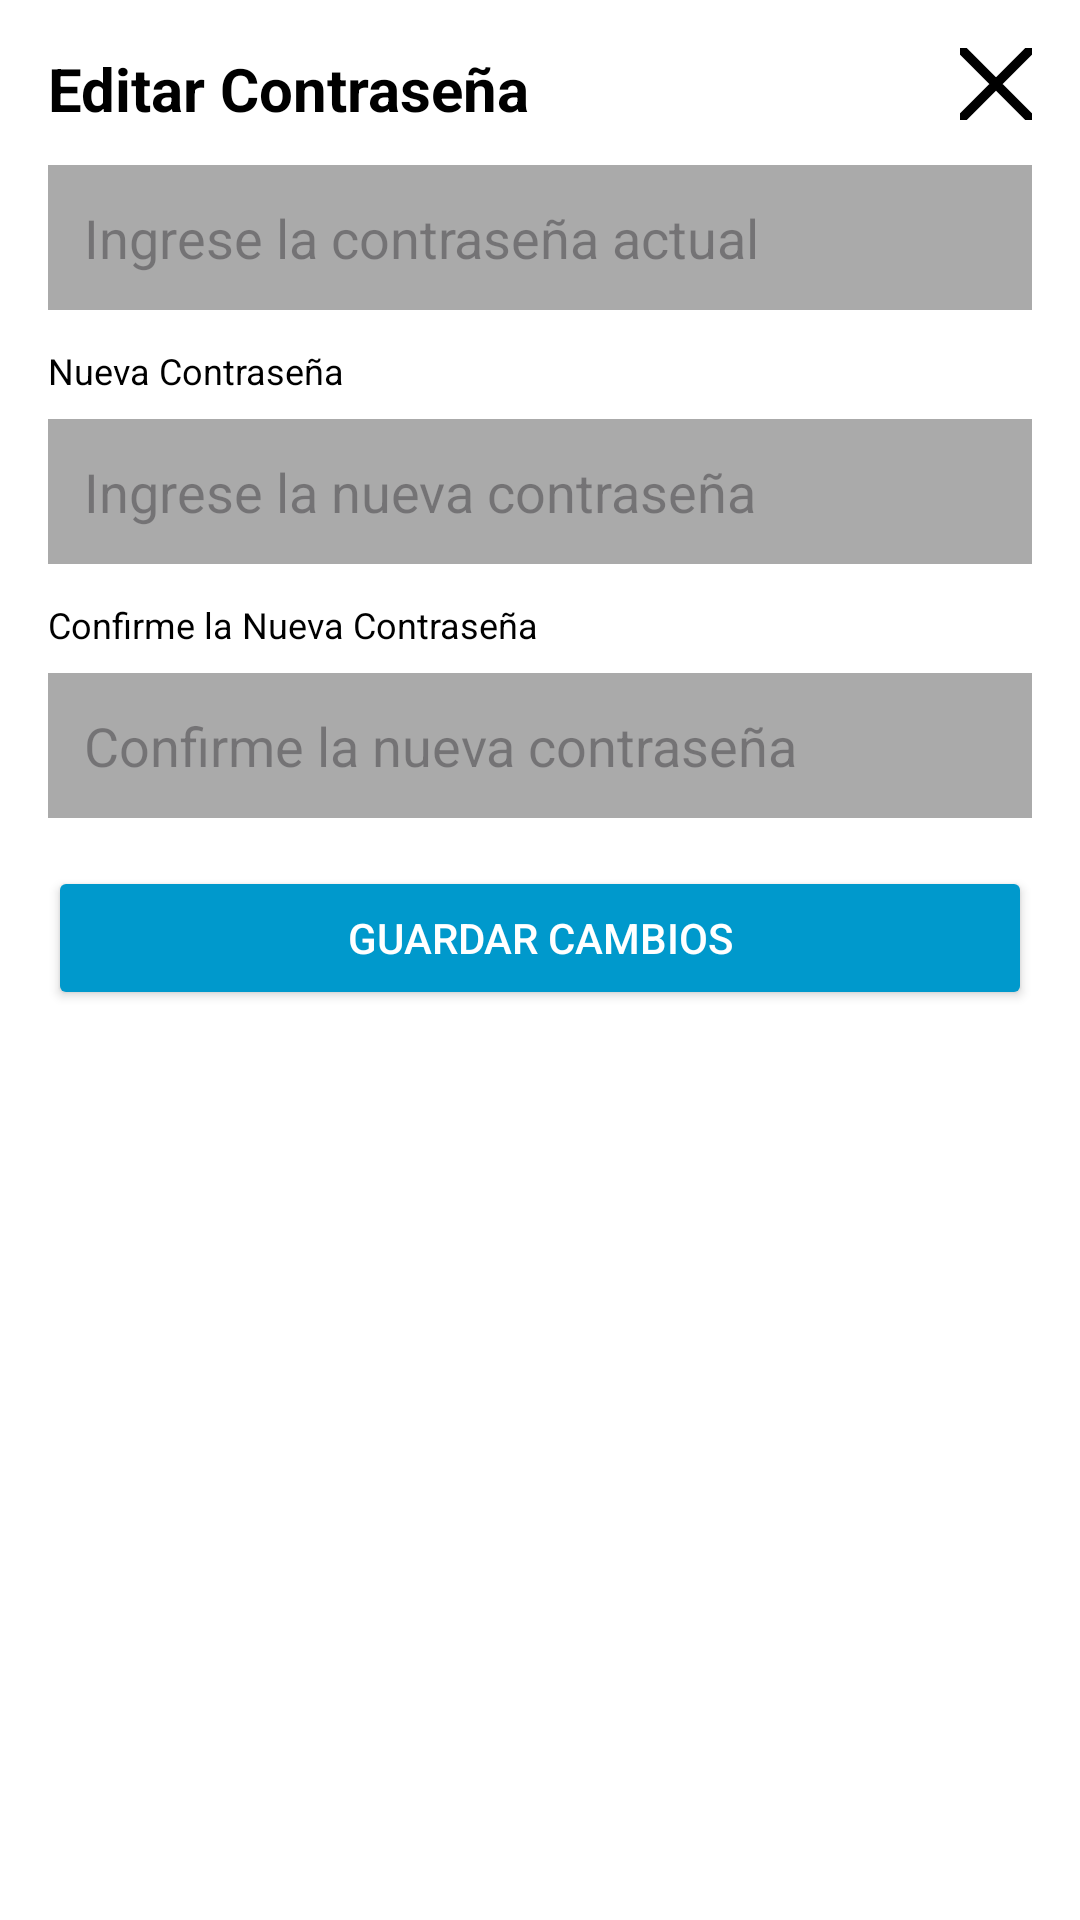

Named icons in this screenshot (1080 × 1920) and their centers, (x,y):
Cerrar diálogo: (996,84)
